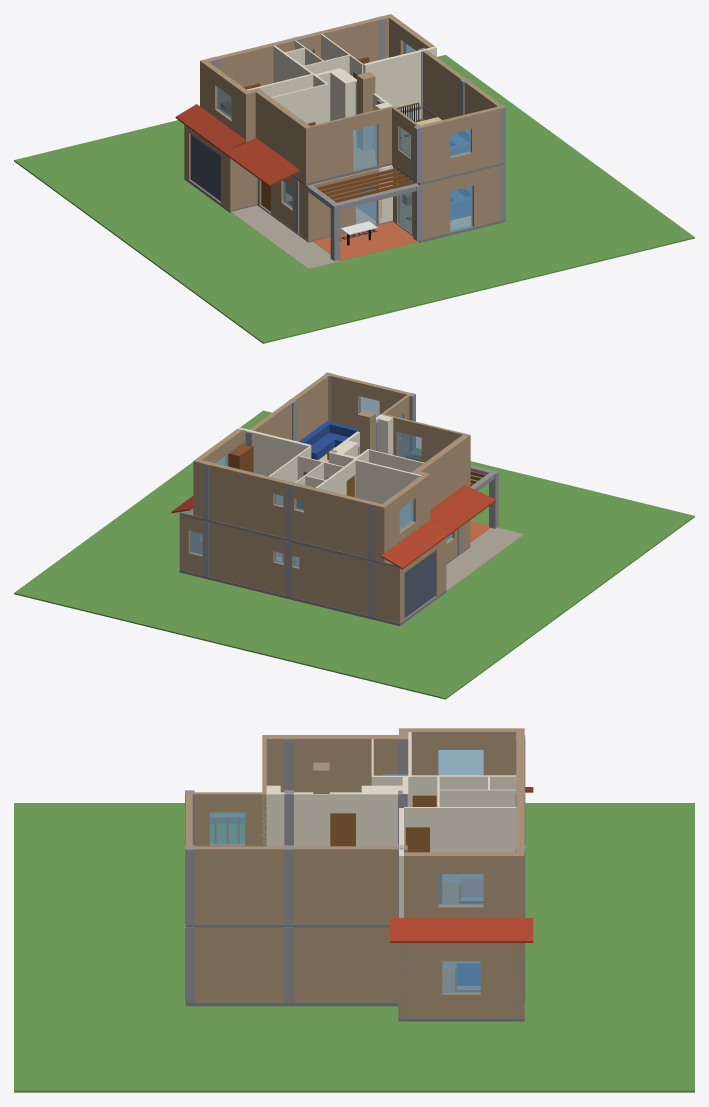
File: maison_3D.glb
The picture shows the model from 3 angles, top to bottom: view 1: azimuth 30°, elevation 25°; view 2: azimuth 150°, elevation 25°; view 3: azimuth 270°, elevation 25°; orthographic projection. The views are drawn at different scales.
Parts seen in each view (by area): view 1: Terrain_0, Etage_Murs_0, Murs_0, Etage_Murs_1, Etage_Toiture_0, Etage_Vitrages_0, Sol_Dallage_ext_0, Vitrages_0, Poteaux_0, Sol_Terrasse_0, Etage_Poteaux_0, Pergola_1 (+7 smaller); view 2: Terrain_0, Etage_Murs_0, Murs_0, Etage_Murs_1, Etage_Toiture_0, Etage_Poteaux_0, Poteaux_0, Sol_Dallage_ext_0, Etage_Vitrages_0, Portes_0, Etage_Salon_0, Dalle_0 (+4 smaller); view 3: Terrain_0, Etage_Murs_0, Murs_0, Etage_Murs_1, Etage_Poteaux_0, Etage_Vitrages_0, Etage_Toiture_0, Poteaux_0, Etage_Portes_0, Dalle_0, Vitrages_0, Etage_Dalle_0.
Boxes of the visible parts, bbox=[...] form: Terrain_0: bbox=[14, 55, 694, 343]; Etage_Murs_0: bbox=[200, 14, 504, 182]; Murs_0: bbox=[184, 109, 499, 240]; Etage_Murs_1: bbox=[247, 34, 436, 160]; Etage_Toiture_0: bbox=[175, 104, 299, 186]; Etage_Vitrages_0: bbox=[217, 41, 470, 170]; Sol_Dallage_ext_0: bbox=[231, 205, 339, 268]; Vitrages_0: bbox=[283, 181, 472, 232]; Poteaux_0: bbox=[256, 109, 505, 261]; Sol_Terrasse_0: bbox=[313, 221, 419, 260]; Etage_Poteaux_0: bbox=[210, 16, 505, 183]; Pergola_1: bbox=[316, 168, 413, 202]; Terrain_0: bbox=[14, 410, 694, 699]; Etage_Murs_0: bbox=[193, 372, 470, 562]; Murs_0: bbox=[179, 454, 470, 623]; Etage_Murs_1: bbox=[237, 413, 424, 525]; Etage_Toiture_0: bbox=[171, 485, 495, 569]; Etage_Poteaux_0: bbox=[202, 372, 456, 559]; Poteaux_0: bbox=[179, 451, 498, 617]; Sol_Dallage_ext_0: bbox=[446, 527, 523, 590]; Etage_Vitrages_0: bbox=[215, 396, 421, 530]; Portes_0: bbox=[404, 551, 434, 617]; Etage_Salon_0: bbox=[299, 421, 357, 459]; Dalle_0: bbox=[179, 546, 470, 626]; Terrain_0: bbox=[14, 803, 694, 1092]; Etage_Murs_0: bbox=[185, 728, 524, 923]; Murs_0: bbox=[194, 927, 524, 1017]; Etage_Murs_1: bbox=[262, 732, 516, 917]; Etage_Poteaux_0: bbox=[185, 735, 525, 923]; Etage_Vitrages_0: bbox=[209, 750, 483, 905]; Etage_Toiture_0: bbox=[390, 787, 533, 942]; Poteaux_0: bbox=[185, 924, 525, 1017]; Etage_Portes_0: bbox=[330, 795, 436, 852]; Dalle_0: bbox=[185, 1002, 524, 1021]; Vitrages_0: bbox=[442, 961, 480, 993]; Etage_Dalle_0: bbox=[185, 924, 524, 943].
Size of the model in its own units: 24 by 7.07 by 24.
